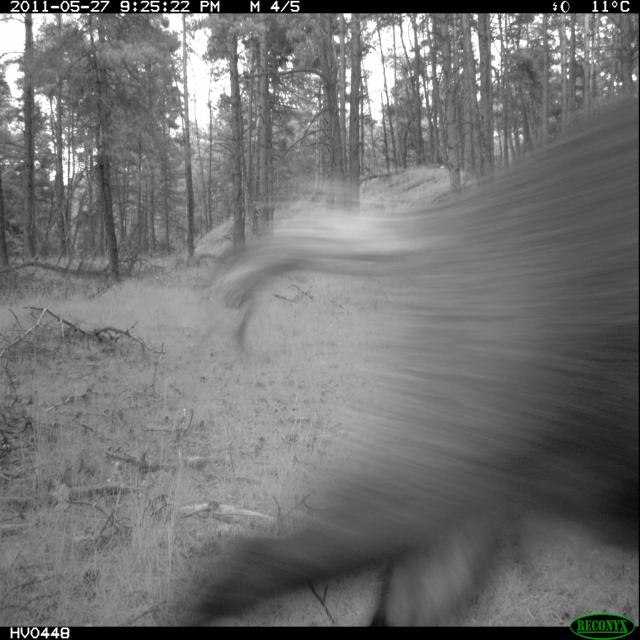boar: (169, 66, 640, 613)
